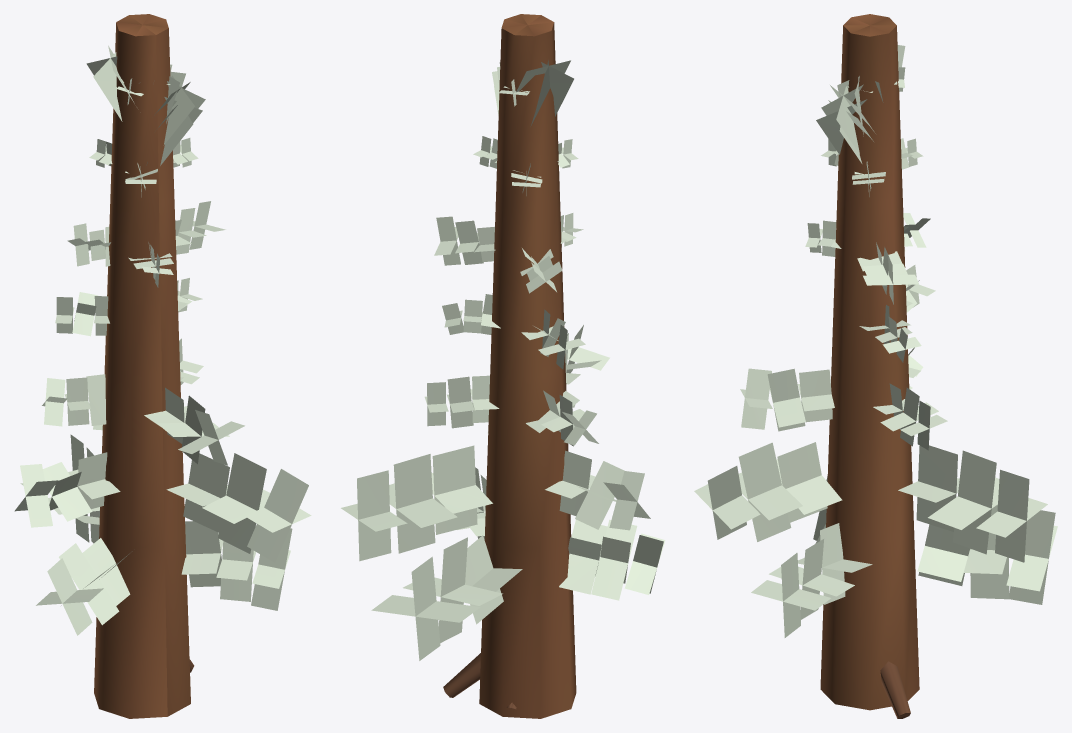
Rendered from standard-lod2.glb.
3 renders of one model, left to right at view 1: azimuth 30°, elevation 25°; view 2: azimuth 150°, elevation 25°; view 3: azimuth 270°, elevation 25°, orthographic.
Visible parts, largest first — view 1: pine-trunk-branches-buried-roots-ground-blend, pine-needle-sprays; view 2: pine-trunk-branches-buried-roots-ground-blend, pine-needle-sprays; view 3: pine-trunk-branches-buried-roots-ground-blend, pine-needle-sprays.
Boxes of the visible parts, x1=… form: pine-trunk-branches-buried-roots-ground-blend: x1=94, y1=14, x2=194, y2=718; pine-needle-sprays: x1=14, y1=45, x2=311, y2=635; pine-trunk-branches-buried-roots-ground-blend: x1=443, y1=14, x2=576, y2=718; pine-needle-sprays: x1=341, y1=60, x2=665, y2=660; pine-trunk-branches-buried-roots-ground-blend: x1=820, y1=14, x2=919, y2=718; pine-needle-sprays: x1=694, y1=45, x2=1057, y2=637.
Bounding box in the file's own units: 7.08 × 19.19 × 9.51.
